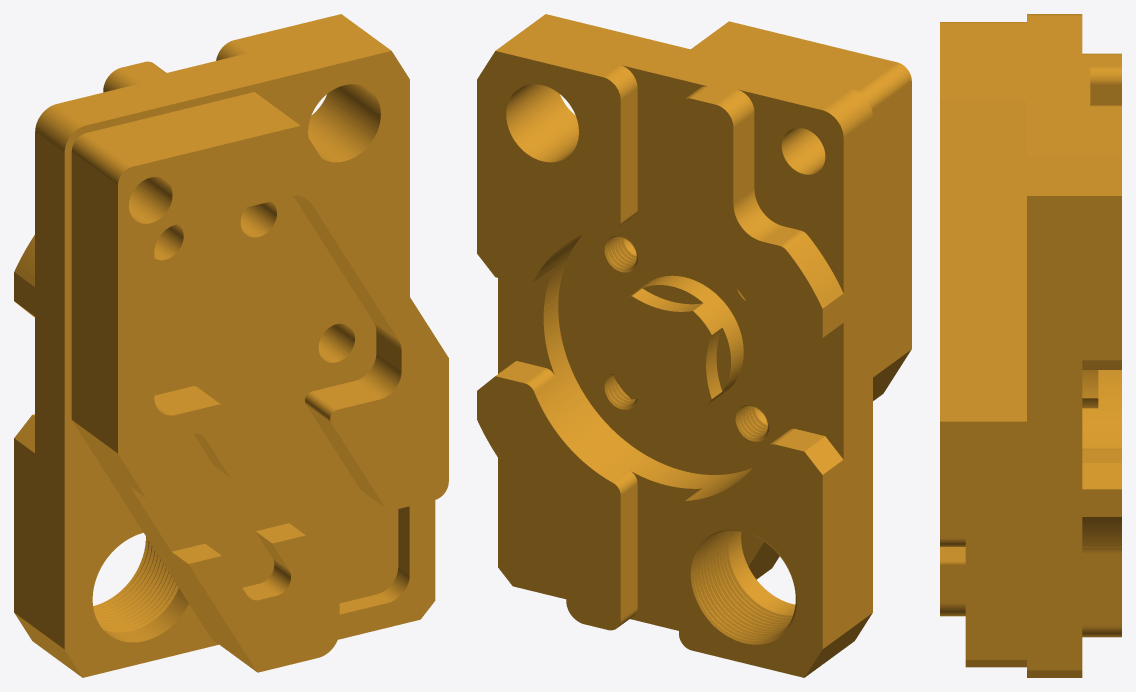
The picture shows the model from 3 angles, left to right: view 1: azimuth 30°, elevation 25°; view 2: azimuth 150°, elevation 25°; view 3: azimuth 270°, elevation 25°; orthographic projection. The views are drawn at different scales.
Size of the model in its own units: 95 by 145 by 46.
